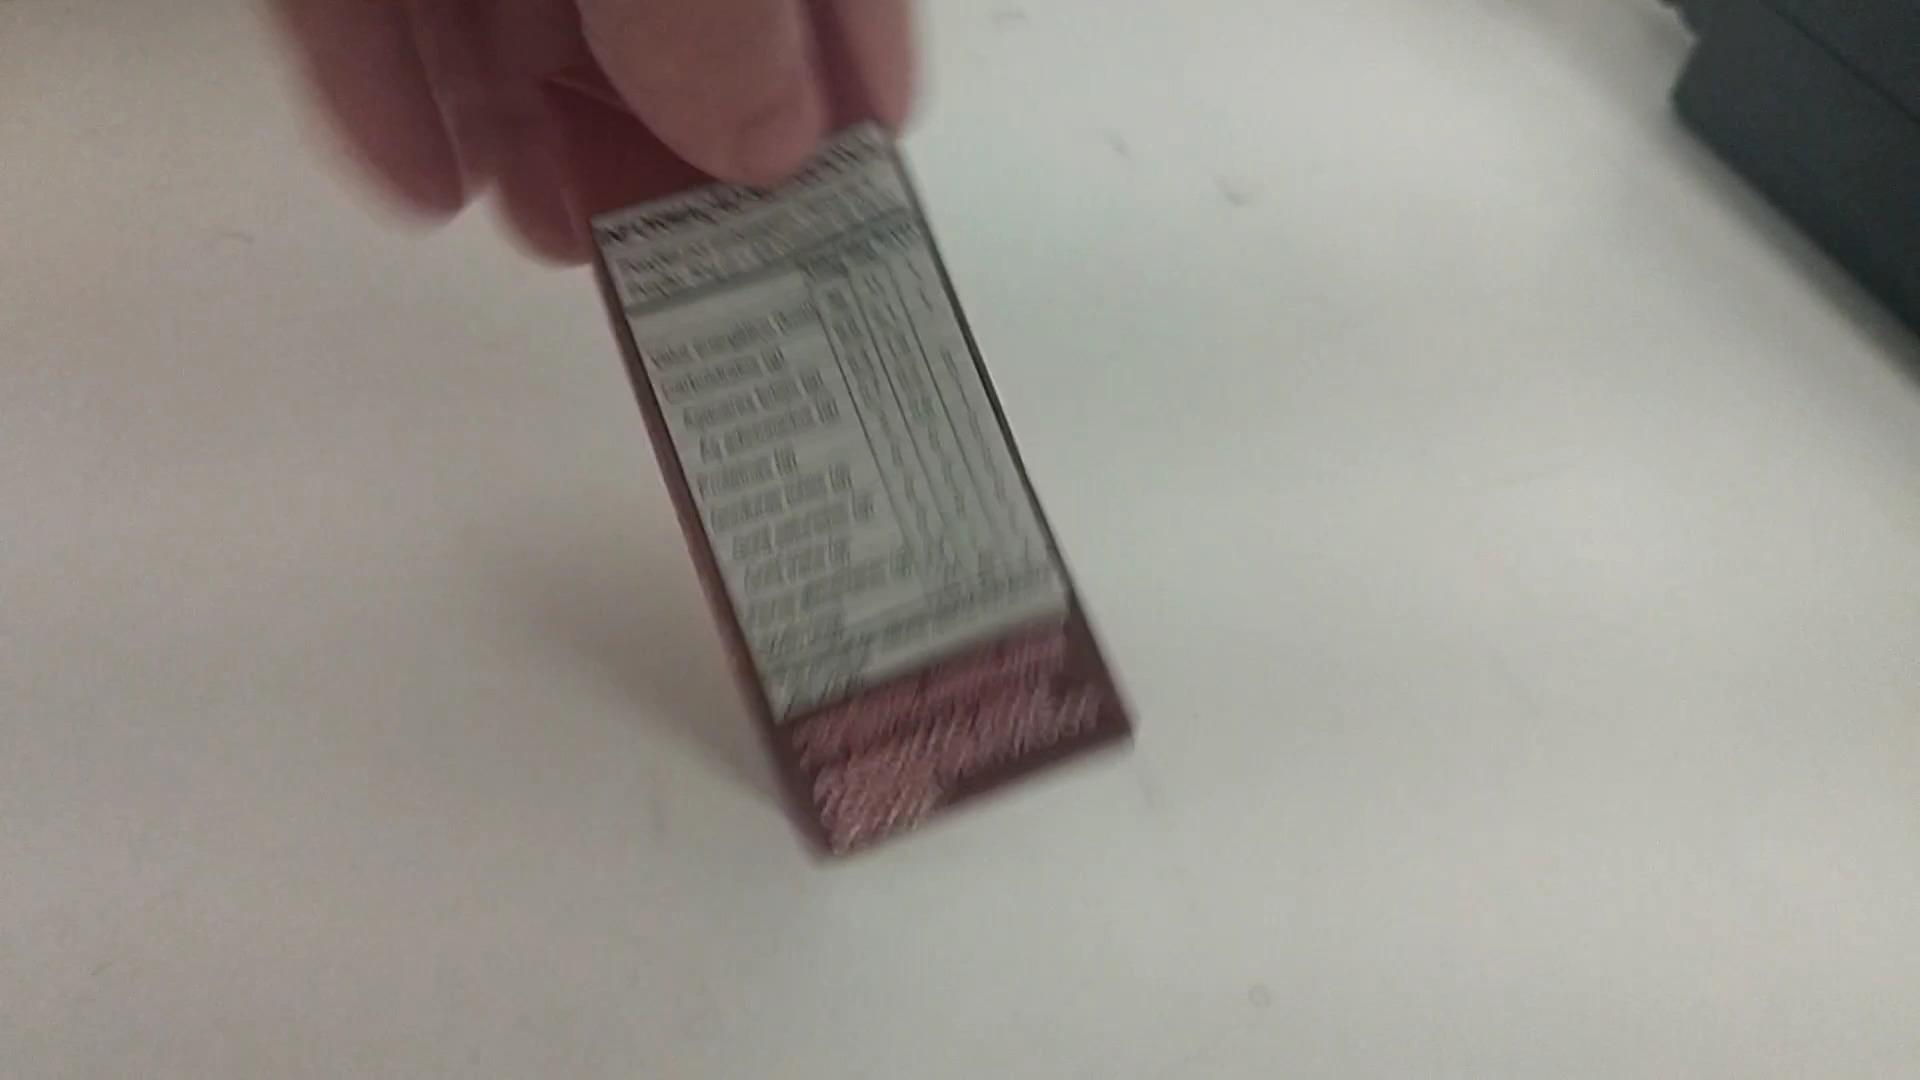tomate: (574, 108, 1133, 858)
